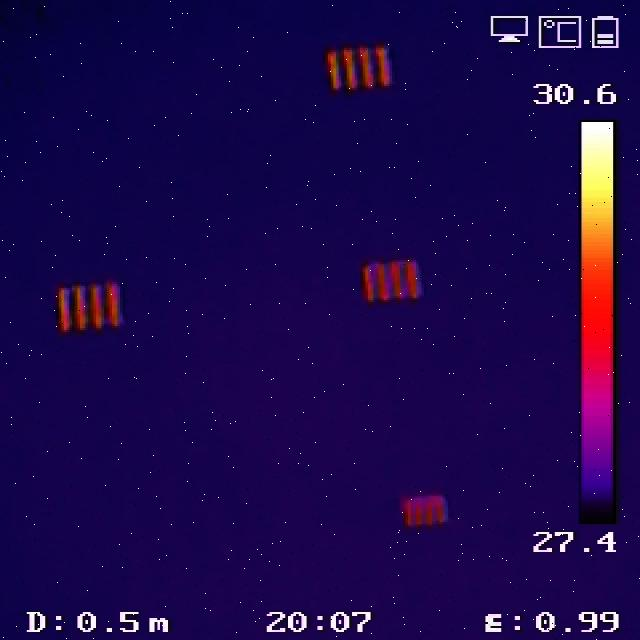Distinguishable 4-bar target: (322, 42, 394, 92), (52, 282, 123, 328)
threshold 4-bar target: (359, 259, 424, 303), (400, 493, 449, 528)
